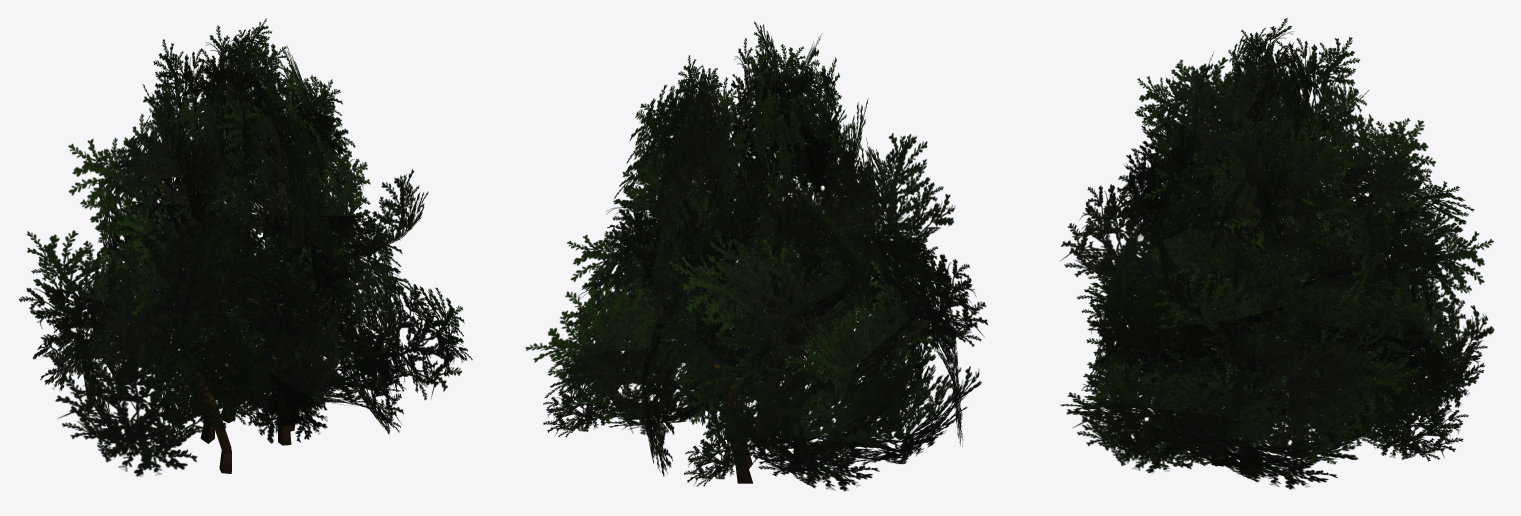
Rendered from Plant_E.glb.
The picture shows the model from 3 angles, left to right: view 1: azimuth 30°, elevation 25°; view 2: azimuth 150°, elevation 25°; view 3: azimuth 270°, elevation 25°; orthographic projection. The views are drawn at different scales.
Parts seen in each view (by area): view 1: Plant_E; view 2: Plant_E; view 3: Plant_E.
Boxes of the visible parts, x1,y1,x2,y2 form: Plant_E: [18, 18, 472, 476]; Plant_E: [525, 21, 987, 491]; Plant_E: [1060, 18, 1494, 489].
Size of the model in its own units: 1.08 by 1.05 by 1.04.
Materials: 1 (1 with a texture image).
